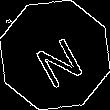N_NW: (25, 23, 85, 87)
